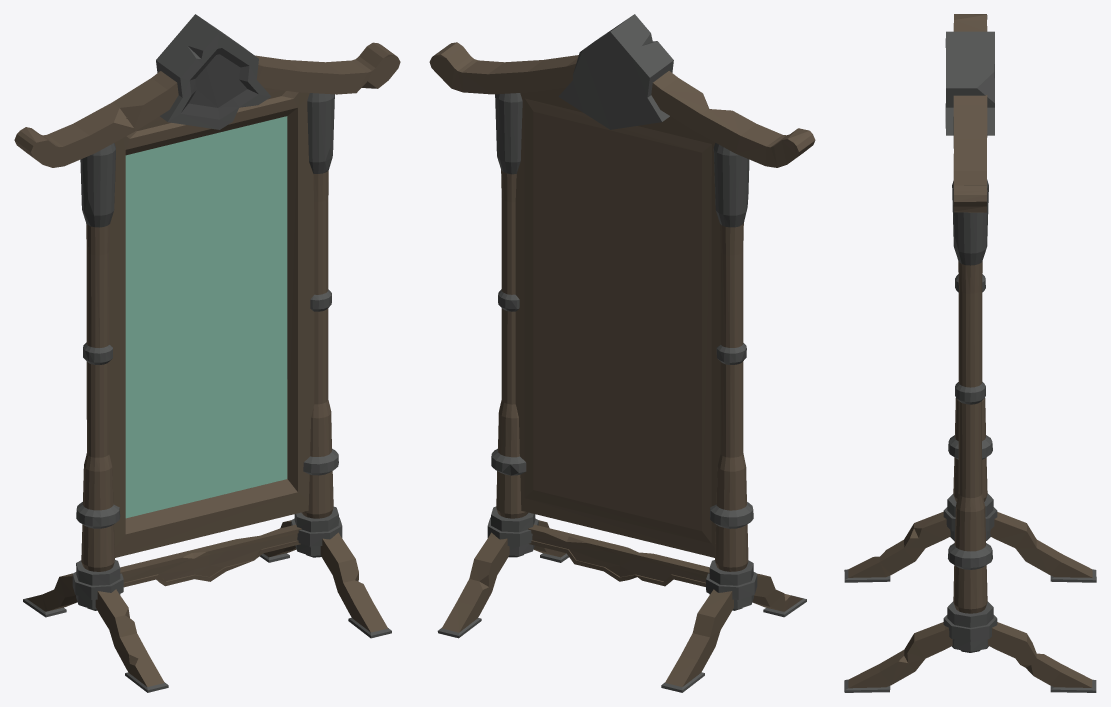
The model's file is SFCS_Mirror.fbx.
3 views of the same model, side by side, from view 1: azimuth 30°, elevation 25°; view 2: azimuth 150°, elevation 25°; view 3: azimuth 270°, elevation 25° (orthographic).
Parts seen in each view (by area): view 1: SFCS_Mirror; view 2: SFCS_Mirror; view 3: SFCS_Mirror.
Boxes of the visible parts, x1,y1,x2,y2 form: SFCS_Mirror: [14, 14, 400, 692]; SFCS_Mirror: [429, 14, 815, 692]; SFCS_Mirror: [844, 14, 1096, 692].
Size of the model in its own units: 181 by 278 by 106.
